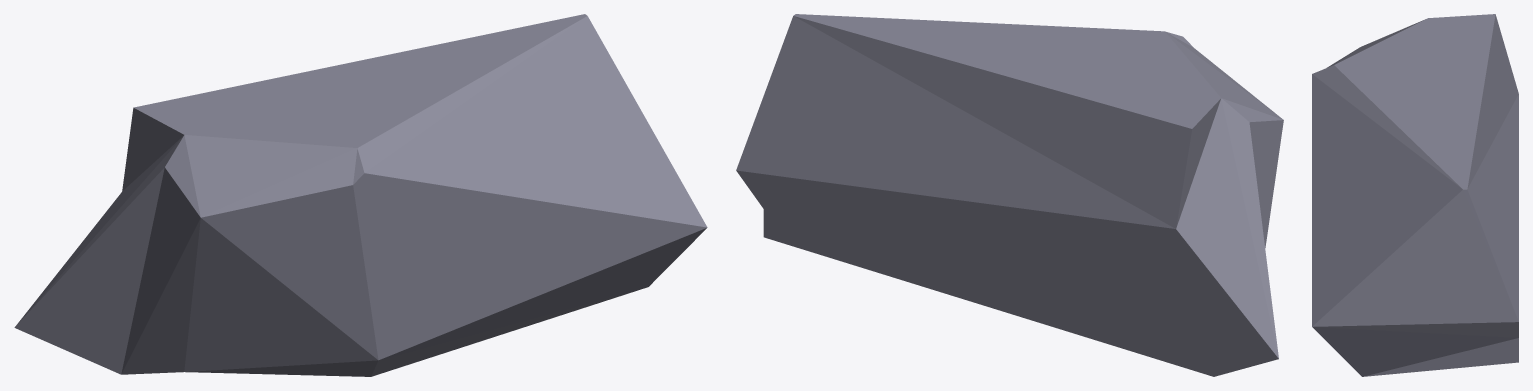
The model's file is rock_b.glb.
The picture shows the model from 3 angles, left to right: view 1: azimuth 30°, elevation 25°; view 2: azimuth 150°, elevation 25°; view 3: azimuth 270°, elevation 25°; orthographic projection. The views are drawn at different scales.
Parts seen in each view (by area): view 1: Material_001-material.154; view 2: Material_001-material.154; view 3: Material_001-material.154.
Part boxes in pixels (x1,y1,x2,y2): Material_001-material.154: (14,14,707,376); Material_001-material.154: (736,14,1283,376); Material_001-material.154: (1312,14,1518,376).
Bounding box in the file's own units: 1.28 × 0.5156 × 0.4861.
Materials: 1 (1 with a texture image).
